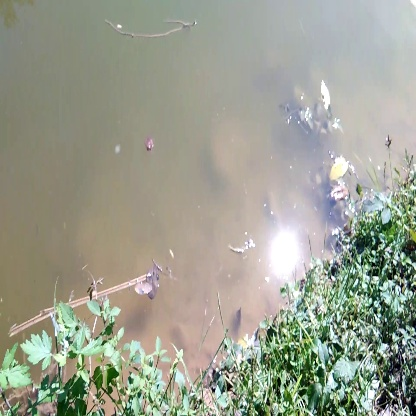branch: (95, 11, 204, 46)
